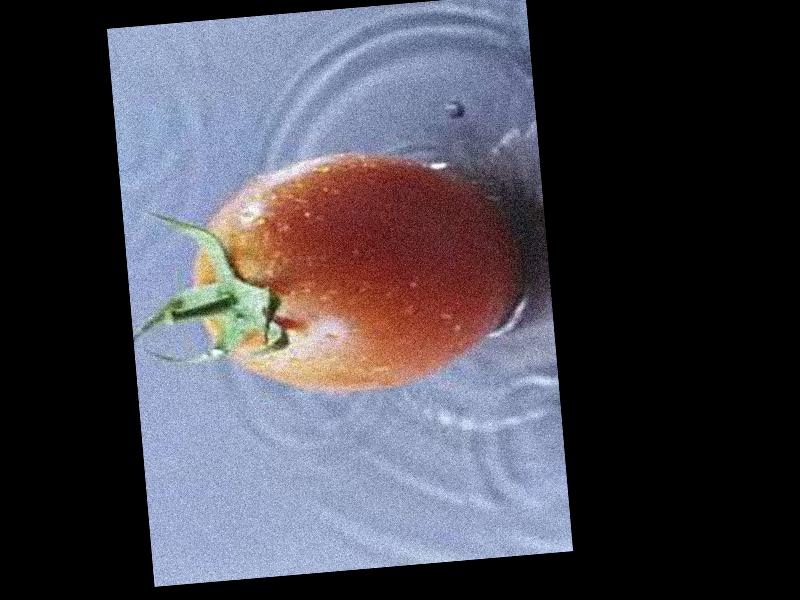Tomato: (186, 142, 529, 402)
